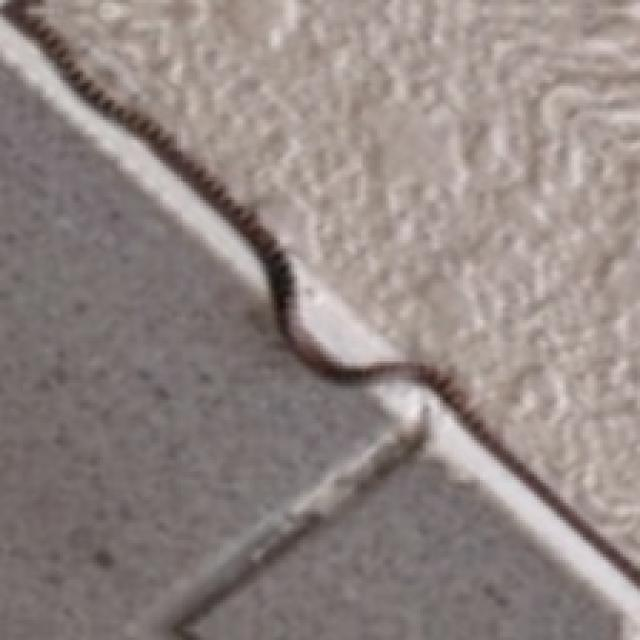paradise tree snake: (2, 0, 640, 586)
